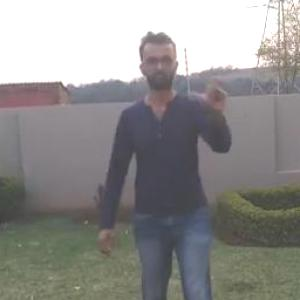land_hand: (179, 60, 226, 113)
